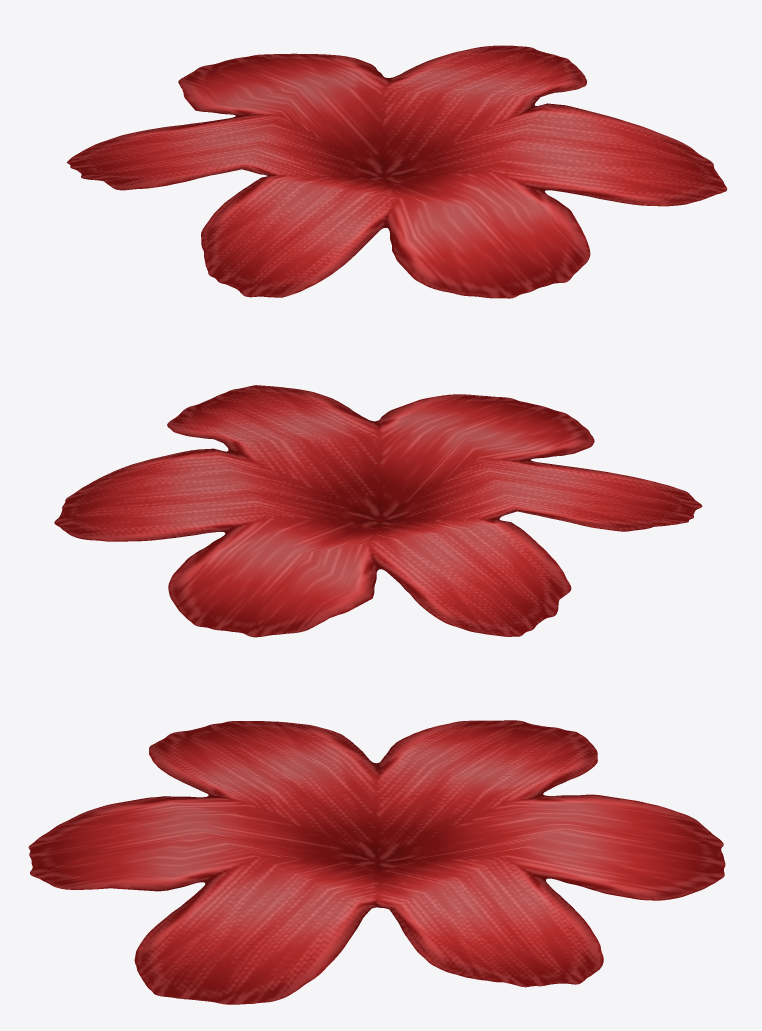
Rendered from Flower02.glb.
3 renders of one model, top to bottom at view 1: azimuth 30°, elevation 25°; view 2: azimuth 150°, elevation 25°; view 3: azimuth 270°, elevation 25°, orthographic. The views are drawn at different scales.
Visible parts, largest first — view 1: Flower02; view 2: Flower02; view 3: Flower02.
Part boxes in pixels (<box>): Flower02: <box>67,45,727,298</box>; Flower02: <box>54,385,702,637</box>; Flower02: <box>28,720,725,1004</box>.
Size of the model in its own units: 0.6029 by 0.0375 by 0.6029.
1 material, 1 textured.
